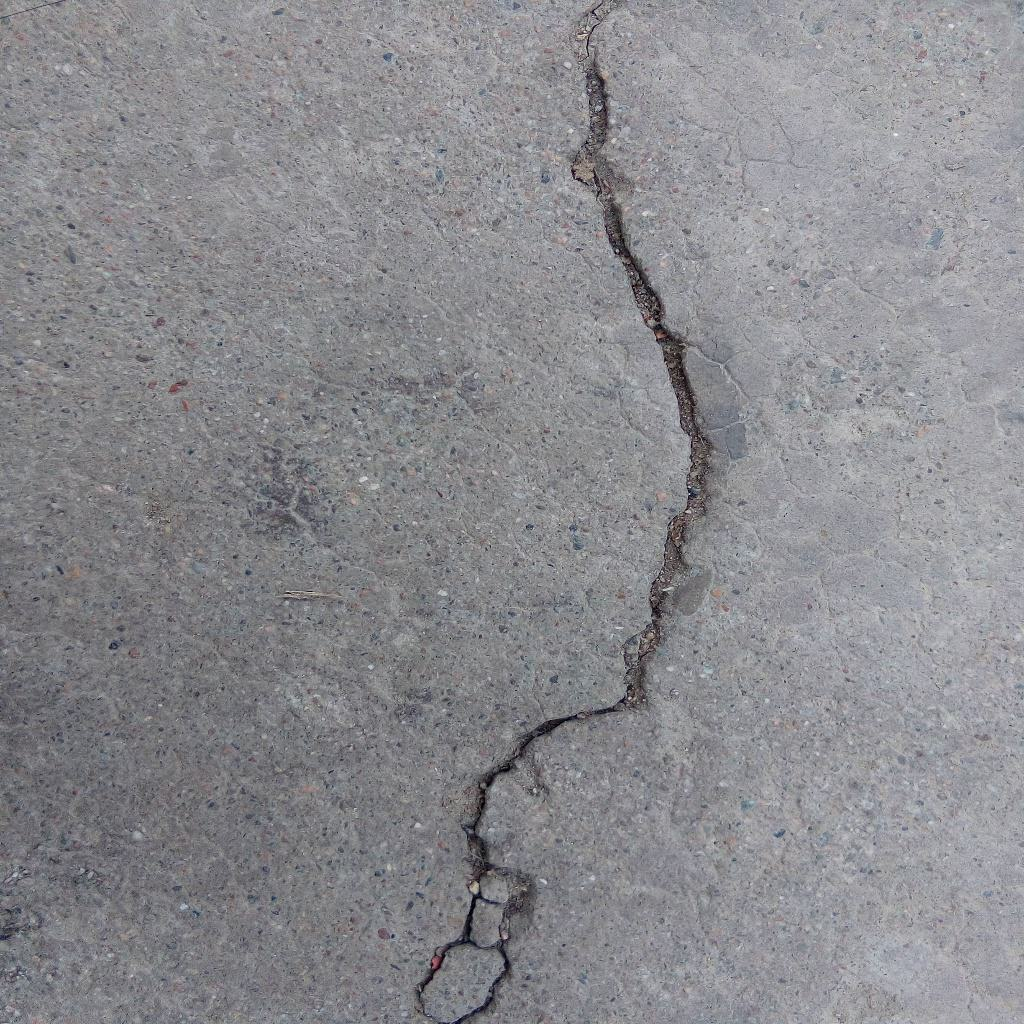Crack: (415, 1, 713, 1024)
